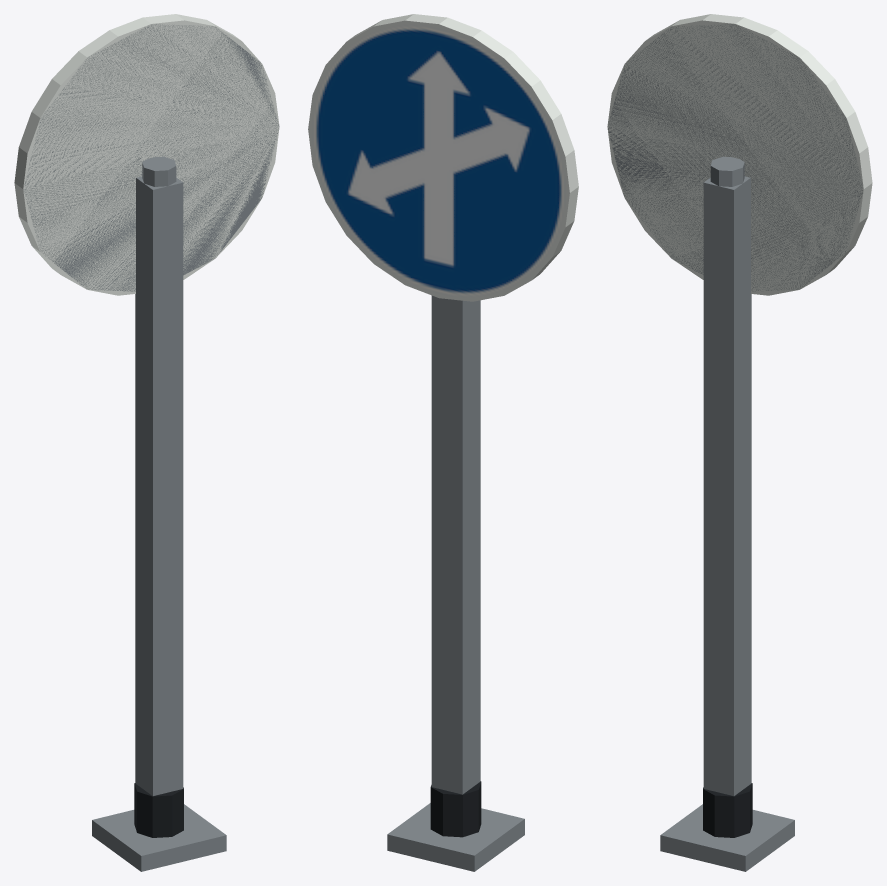
File: direction-sign-hl-a-r.glb
The picture shows the model from 3 angles, left to right: view 1: azimuth 30°, elevation 25°; view 2: azimuth 150°, elevation 25°; view 3: azimuth 330°, elevation 25°; orthographic projection. The views are drawn at different scales.
Parts seen in each view (by area): view 1: direction-sign-hl-a-r (×2); view 2: direction-sign-hl-a-r (×2); view 3: direction-sign-hl-a-r (×2).
Boxes of the visible parts, x1,y1,x2,y2 form: direction-sign-hl-a-r (×2): (14,14,279,871); direction-sign-hl-a-r (×2): (308,14,578,871); direction-sign-hl-a-r (×2): (607,14,872,871).
Size of the model in its own units: 2.35 by 7.14 by 0.784.
4 materials, 1 textured.
